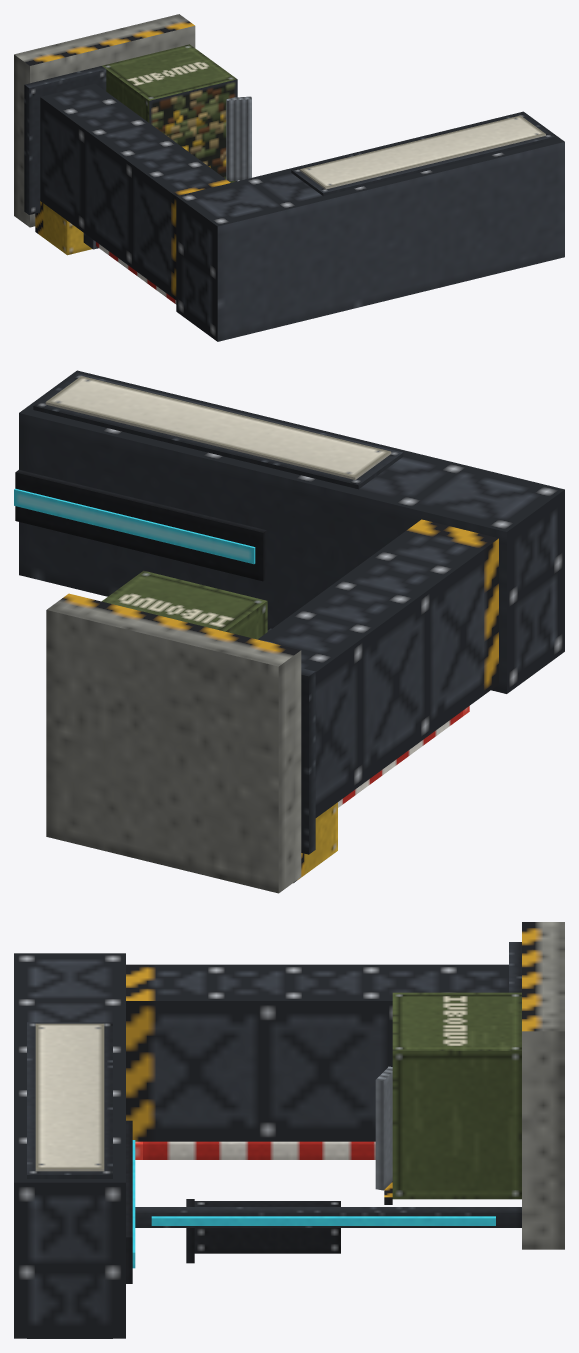
Rendered from supply_receiving_gate_right.obj.
3 views of the same model, one above another, from view 1: azimuth 30°, elevation 25°; view 2: azimuth 150°, elevation 25°; view 3: azimuth 270°, elevation 25° (orthographic). The views are drawn at different scales.
Parts seen in each view (by area): view 1: supply_receiving_gate_right_Beam, supply_receiving_gate_right_Column_0, supply_receiving_gate_right_Bin_0, supply_receiving_gate_right_Footing_0, supply_receiving_gate_right_Nameplate_1, supply_receiving_gate_right_Column_plate_0, supply_receiving_gate_right_Nameplate_frame_1, supply_receiving_gate_right_Tip_chute_0, supply_receiving_gate_right_Barrier_housing_0; view 2: supply_receiving_gate_right_Footing_0, supply_receiving_gate_right_Beam, supply_receiving_gate_right_Column_0, supply_receiving_gate_right_Nameplate_1, supply_receiving_gate_right_Scanner_housing, supply_receiving_gate_right_Bin_0, supply_receiving_gate_right_Nameplate_frame_1, supply_receiving_gate_right_Scanner_bar, supply_receiving_gate_right_Column_plate_0, supply_receiving_gate_right_Barrier_housing_0, supply_receiving_gate_right_Barrier_arm_0; view 3: supply_receiving_gate_right_Column_0, supply_receiving_gate_right_Beam, supply_receiving_gate_right_Bin_0, supply_receiving_gate_right_Footing_0, supply_receiving_gate_right_Nameplate_1, supply_receiving_gate_right_Scanner_post_0, supply_receiving_gate_right_Signal_head_0, supply_receiving_gate_right_Barrier_arm_0, supply_receiving_gate_right_Nameplate_frame_1, supply_receiving_gate_right_Scanner_strip_0, supply_receiving_gate_right_Tip_chute_0, supply_receiving_gate_right_Scanner_housing (+1 smaller).
Boxes of the visible parts, left/top/right/bottom form: supply_receiving_gate_right_Beam: left=176, top=111, right=564, bottom=341; supply_receiving_gate_right_Column_0: left=40, top=83, right=230, bottom=299; supply_receiving_gate_right_Bin_0: left=102, top=44, right=237, bottom=182; supply_receiving_gate_right_Footing_0: left=14, top=14, right=195, bottom=227; supply_receiving_gate_right_Nameplate_1: left=300, top=115, right=545, bottom=189; supply_receiving_gate_right_Column_plate_0: left=24, top=66, right=106, bottom=214; supply_receiving_gate_right_Nameplate_frame_1: left=291, top=113, right=554, bottom=195; supply_receiving_gate_right_Tip_chute_0: left=226, top=96, right=251, bottom=181; supply_receiving_gate_right_Barrier_housing_0: left=35, top=201, right=91, bottom=255; supply_receiving_gate_right_Footing_0: left=46, top=593, right=301, bottom=893; supply_receiving_gate_right_Beam: left=19, top=370, right=564, bottom=693; supply_receiving_gate_right_Column_0: left=258, top=519, right=498, bottom=817; supply_receiving_gate_right_Nameplate_1: left=45, top=376, right=391, bottom=479; supply_receiving_gate_right_Scanner_housing: left=15, top=470, right=266, bottom=581; supply_receiving_gate_right_Bin_0: left=101, top=570, right=267, bottom=639; supply_receiving_gate_right_Nameplate_frame_1: left=33, top=373, right=403, bottom=489; supply_receiving_gate_right_Scanner_bar: left=14, top=488, right=255, bottom=564; supply_receiving_gate_right_Column_plate_0: left=301, top=668, right=315, bottom=854; supply_receiving_gate_right_Barrier_housing_0: left=293, top=802, right=337, bottom=883; supply_receiving_gate_right_Barrier_arm_0: left=338, top=711, right=462, bottom=807; supply_receiving_gate_right_Column_0: left=126, top=964, right=508, bottom=1141; supply_receiving_gate_right_Beam: left=14, top=953, right=125, bottom=1338; supply_receiving_gate_right_Bin_0: left=392, top=992, right=521, bottom=1199; supply_receiving_gate_right_Footing_0: left=522, top=922, right=564, bottom=1249; supply_receiving_gate_right_Nameplate_1: left=35, top=1023, right=104, bottom=1171; supply_receiving_gate_right_Scanner_post_0: left=135, top=1207, right=521, bottom=1227; supply_receiving_gate_right_Signal_head_0: left=194, top=1201, right=340, bottom=1253; supply_receiving_gate_right_Barrier_arm_0: left=143, top=1141, right=375, bottom=1159; supply_receiving_gate_right_Nameplate_frame_1: left=27, top=1022, right=112, bottom=1178; supply_receiving_gate_right_Scanner_strip_0: left=151, top=1216, right=495, bottom=1225; supply_receiving_gate_right_Tip_chute_0: left=375, top=1066, right=392, bottom=1190; supply_receiving_gate_right_Scanner_housing: left=126, top=1120, right=132, bottom=1283.
Size of the model in its own units: 2 by 0.9219 by 2.
